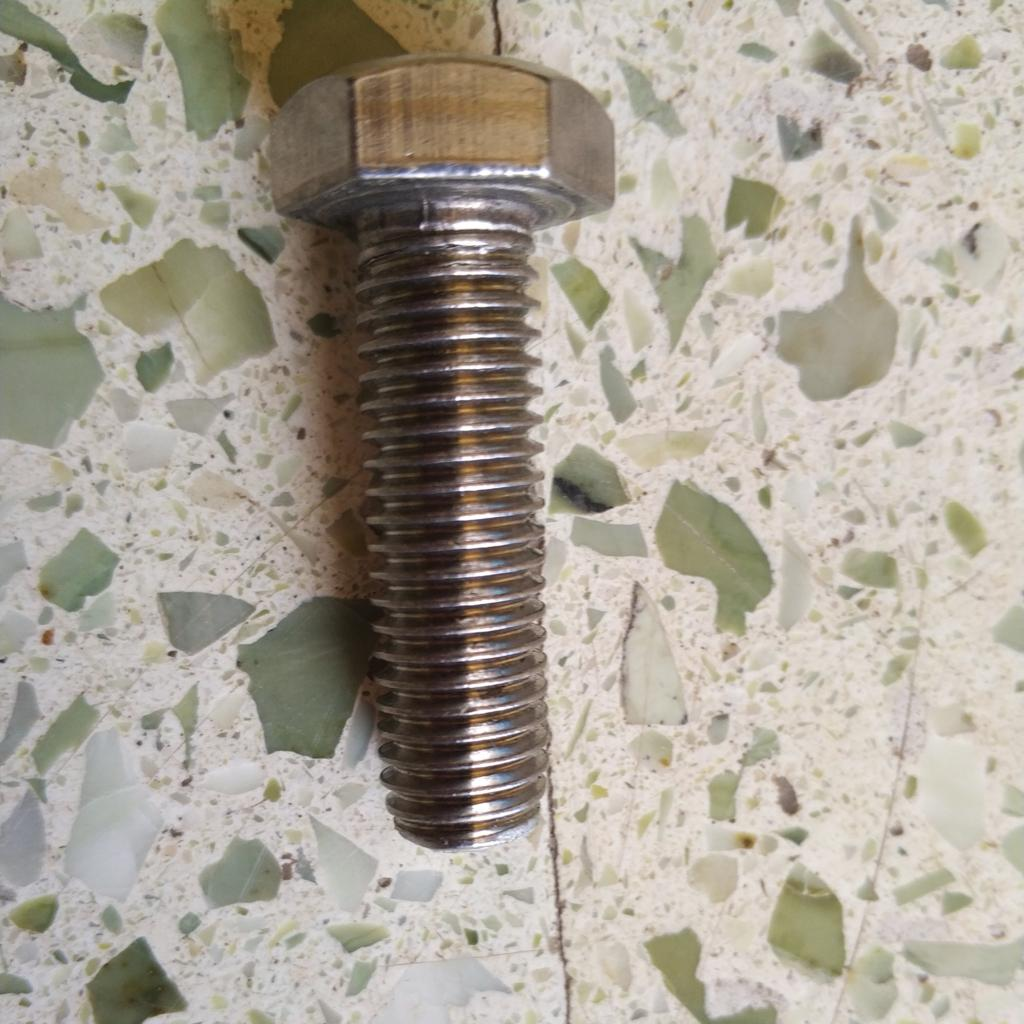screwtype2silver: (240, 50, 629, 861)
